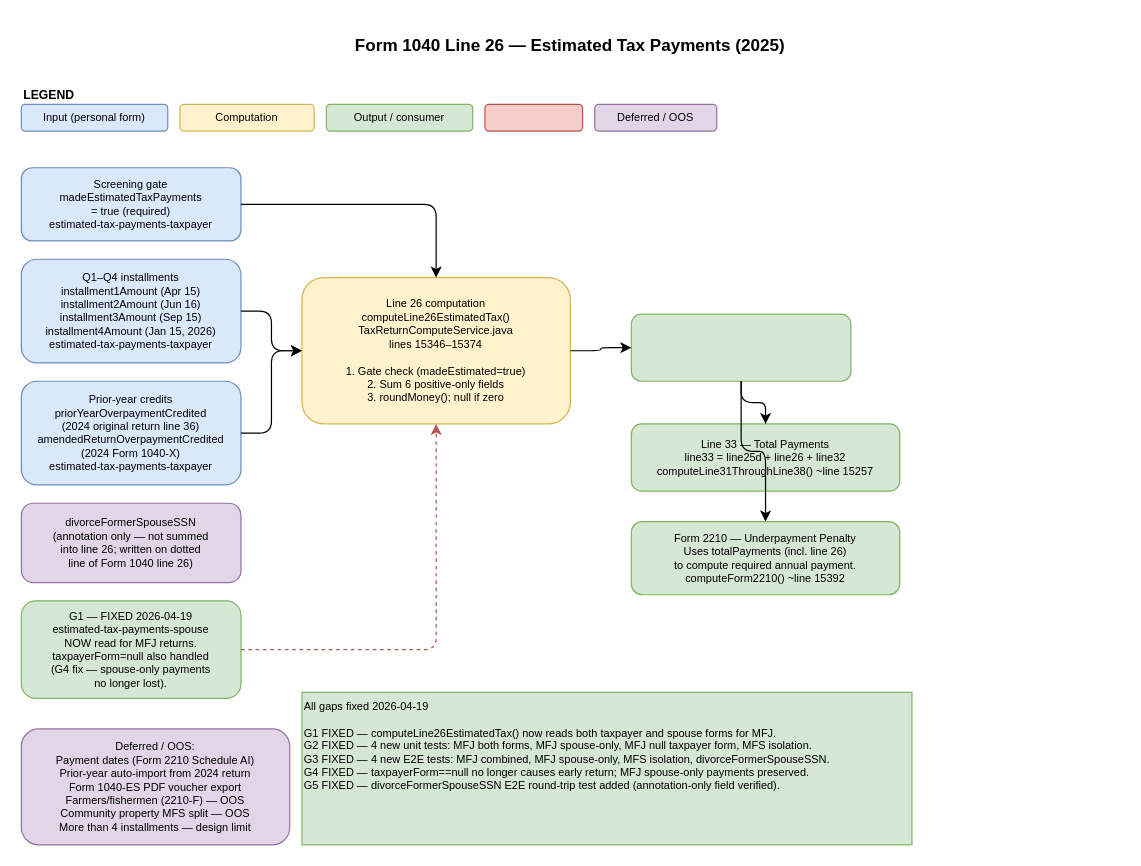
Some shapes in this 1141 by 866 pixel diagram are drawn without their labels. The shapes that lost their labels are listed below. From the top down, each one's centre as x and y in pixels, then its label:
(533,117): Gap
(740,347): Line 26 Payments.estimatedTaxPayments null when zero or gate=false
